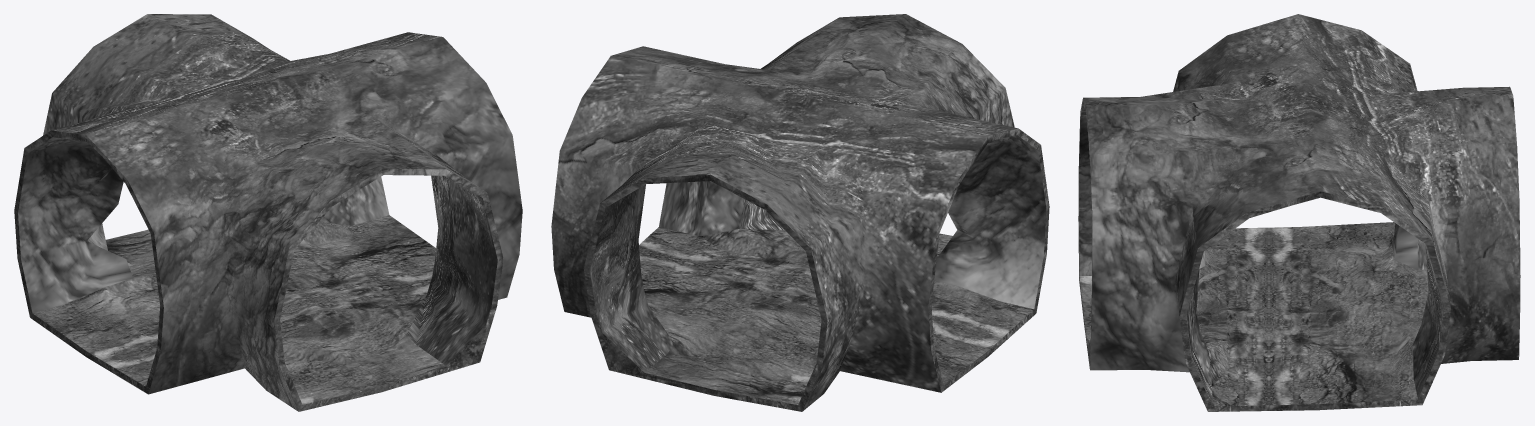
The model's file is crossroads.fbx.
3 views of the same model, side by side, from view 1: azimuth 30°, elevation 25°; view 2: azimuth 150°, elevation 25°; view 3: azimuth 270°, elevation 25° (orthographic).
Parts seen in each view (by area): view 1: cavelarge; view 2: cavelarge; view 3: cavelarge.
Boxes of the visible parts, bbox=[...] form: cavelarge: bbox=[14, 14, 522, 411]; cavelarge: bbox=[551, 14, 1049, 411]; cavelarge: bbox=[1078, 14, 1520, 411].
Size of the model in its own units: 163 by 91.18 by 166.
Materials: 1 (1 with a texture image).
